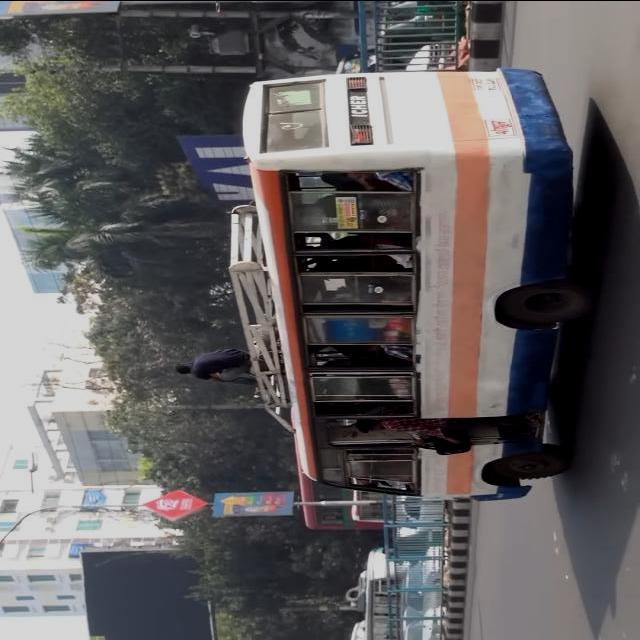bus: (230, 67, 600, 502)
